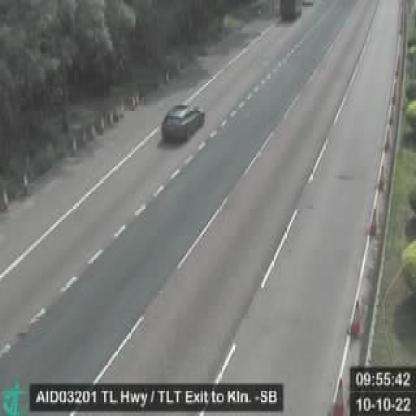Car: (160, 102, 205, 142)
